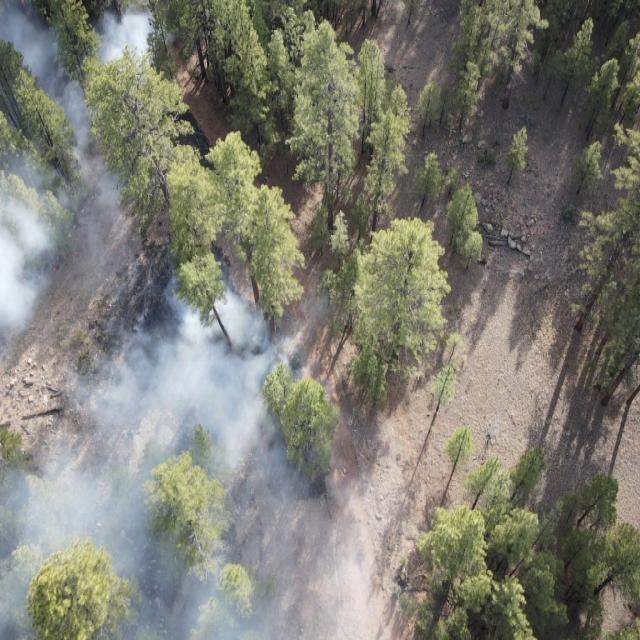fire: (52, 264, 59, 274)
smoke: (0, 260, 383, 640), (0, 0, 166, 345)
